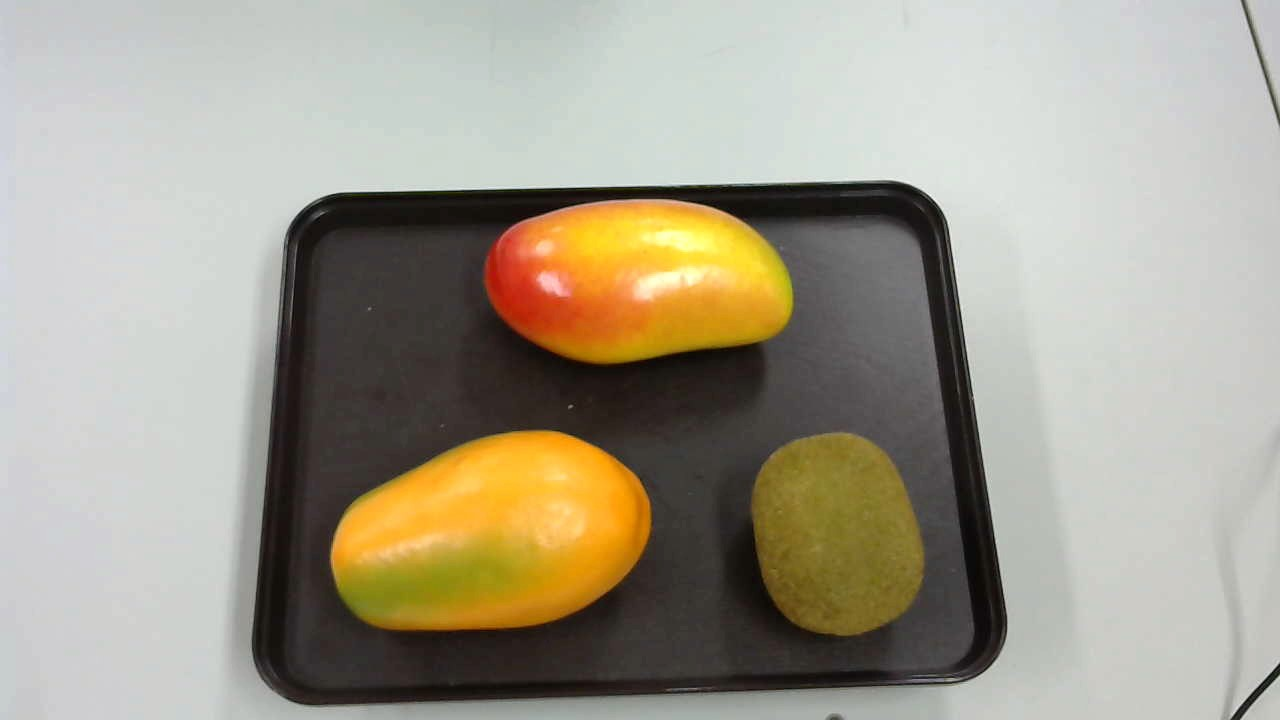kiwi fruit: (748, 431, 927, 640)
papya: (328, 429, 651, 629)
red mango: (483, 199, 795, 364)
